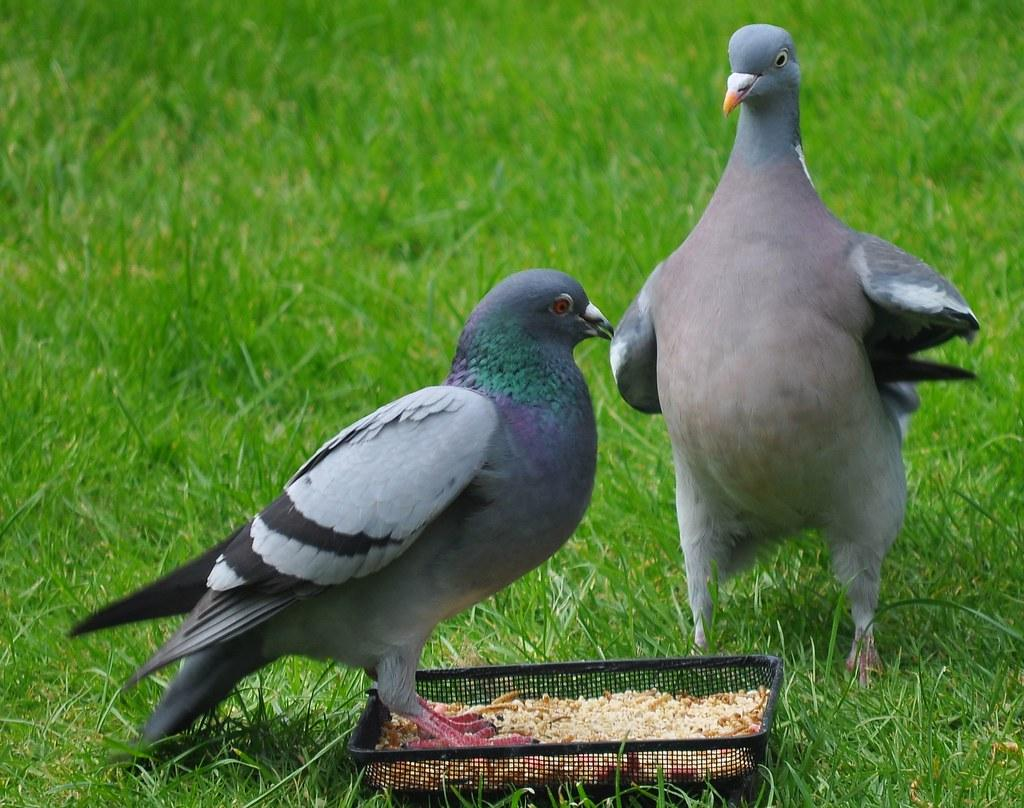Flying Rat: (98, 262, 607, 808), (637, 37, 955, 719)
